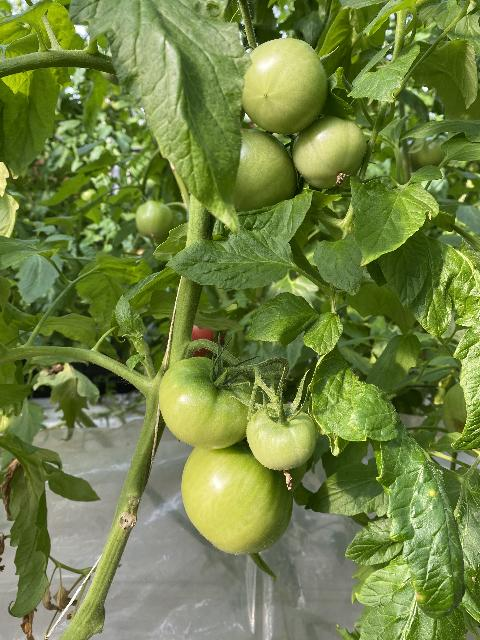b_green: (181, 441, 293, 556), (159, 356, 262, 450), (241, 38, 328, 134), (291, 116, 367, 189), (233, 129, 299, 212), (246, 403, 316, 470), (135, 200, 173, 240)
